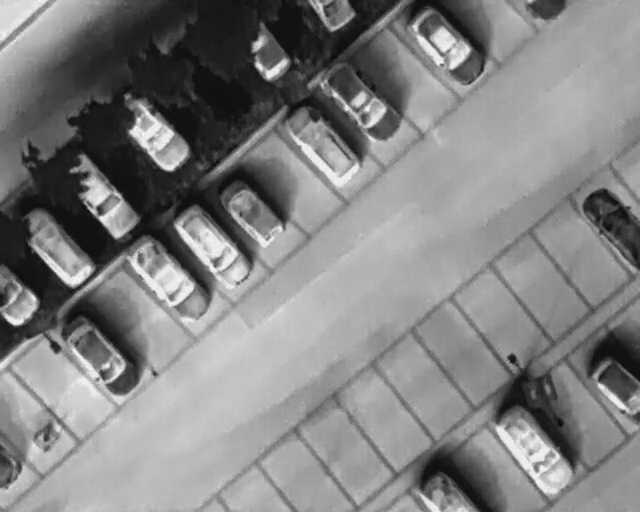Car: (122, 230, 215, 331), (489, 399, 581, 499), (8, 198, 102, 295), (55, 308, 146, 405), (103, 85, 196, 178), (168, 199, 258, 295), (317, 56, 407, 150), (401, 1, 493, 92), (55, 147, 142, 243), (277, 98, 365, 191), (215, 174, 288, 251), (230, 16, 296, 85), (577, 188, 638, 257), (592, 350, 639, 423), (0, 260, 42, 328)
